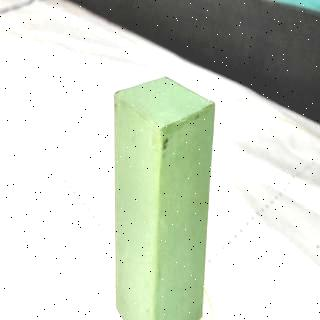greenbox: (113, 74, 214, 320)
